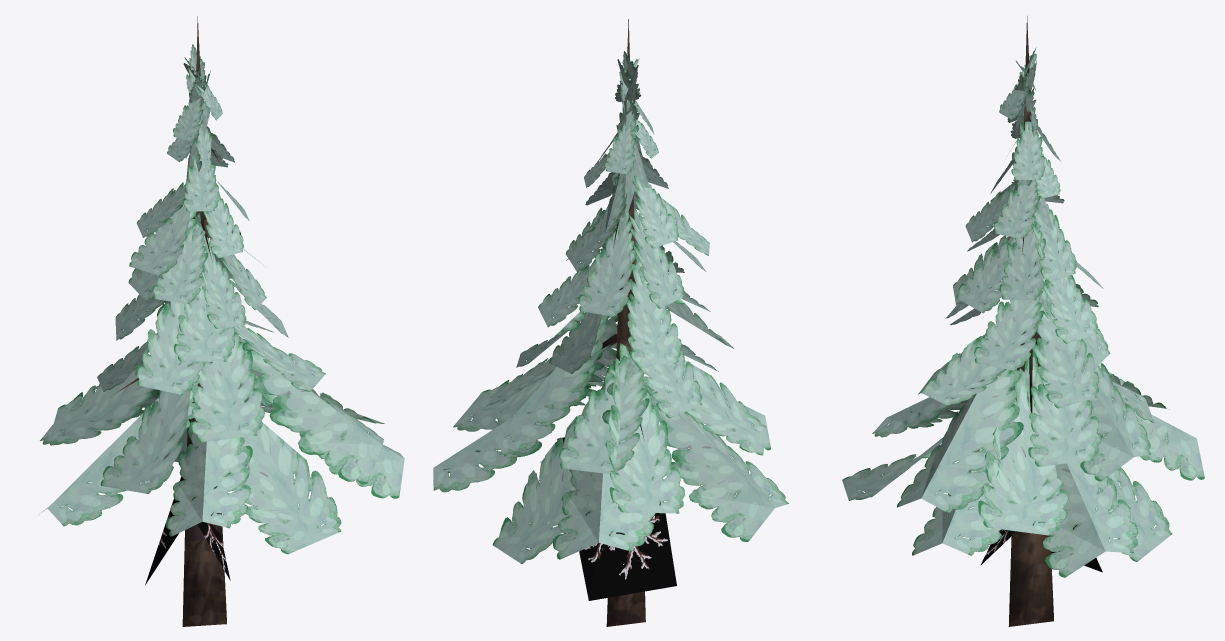
File: pine_tree_l_1_lod_2.fbx
3 views of the same model, side by side, from view 1: azimuth 30°, elevation 25°; view 2: azimuth 150°, elevation 25°; view 3: azimuth 270°, elevation 25° (orthographic).
Parts seen in each view (by area): view 1: pine__tree_l_1; view 2: pine__tree_l_1; view 3: pine__tree_l_1.
Part boxes in pixels (bbox=[...]): pine__tree_l_1: bbox=[40, 16, 404, 626]; pine__tree_l_1: bbox=[433, 19, 788, 626]; pine__tree_l_1: bbox=[842, 16, 1204, 626].
Size of the model in its own units: 289 by 496 by 277.
